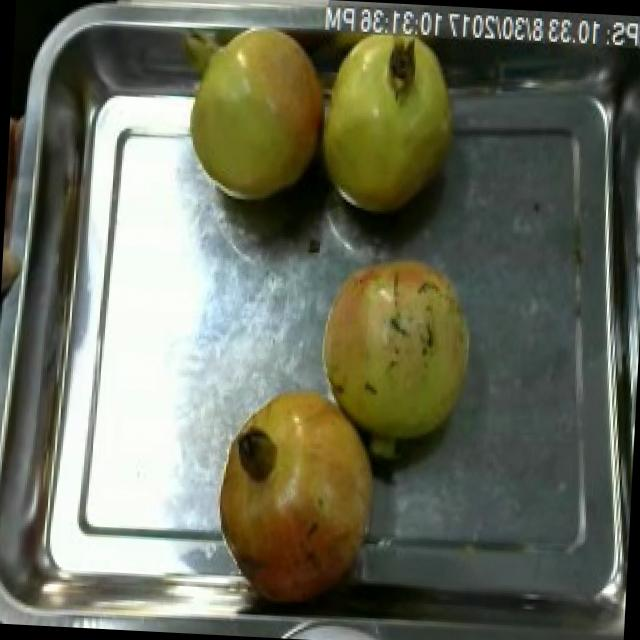fruit: (209, 374, 391, 614), (305, 240, 484, 464), (312, 17, 468, 228), (175, 15, 338, 216)
